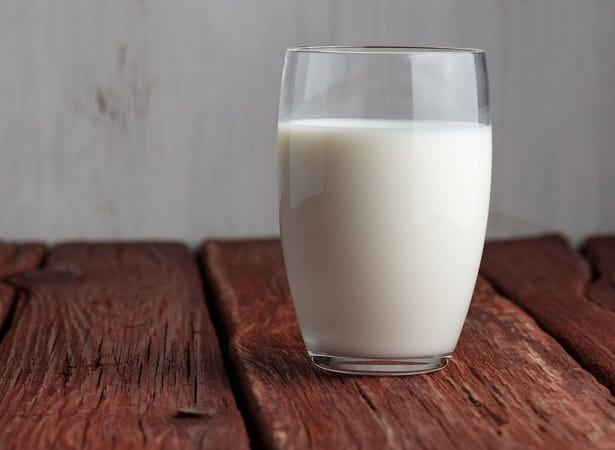glass of milk: (280, 40, 499, 377)
